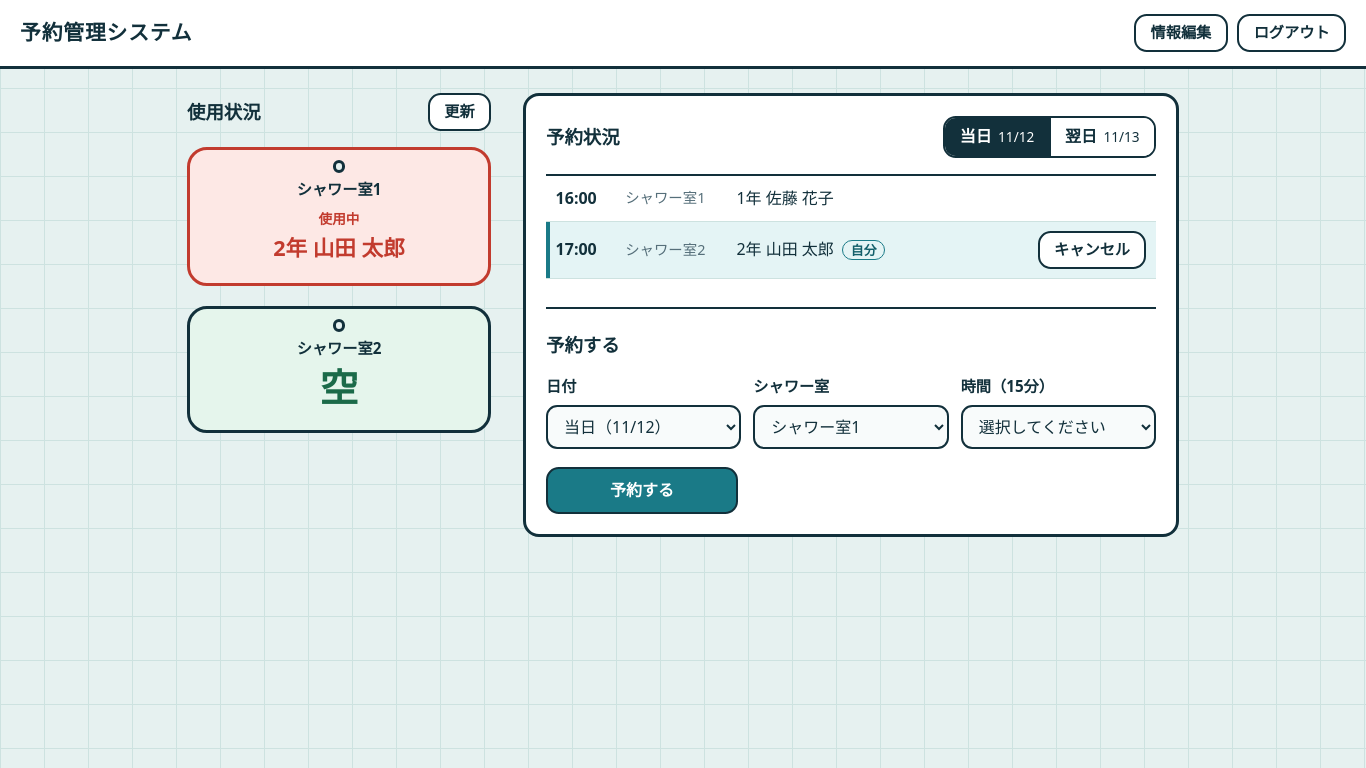
Test: トップページ：予約状況 › 「翌日」に切り替えると、翌日の予約が表示される
Expected: the heading "使用状況" is shown, [187,96,261,127]
Expected: the heading "シャワー室1" is shown, [297,179,381,199]
What coordinates should you click on to do the following:
click the button "翌日11/13"
I would click on:
 (1101, 137)
Its box is [1049,118,1154,156].
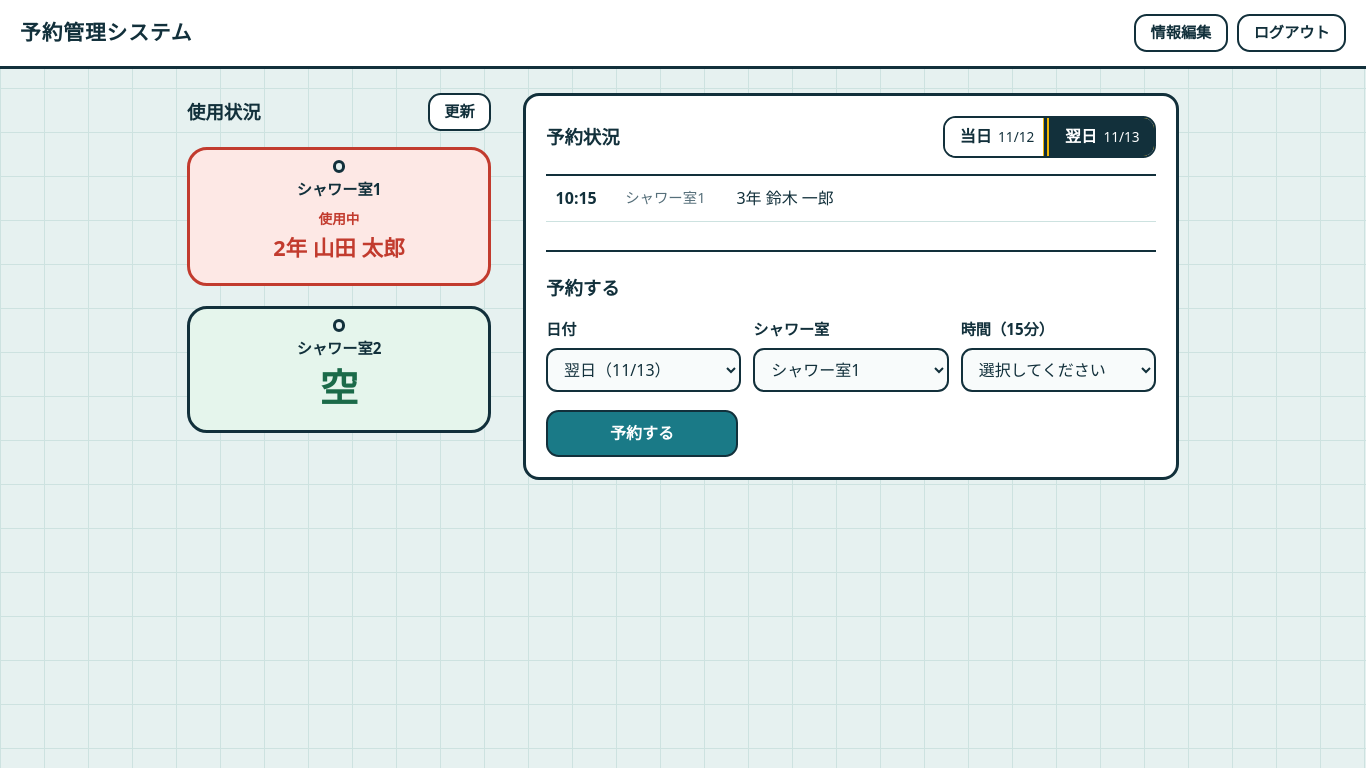
Result: the number of list items is 1 at [546,176,1156,222]
Result: the list item shows "10:15" at [556,187,597,209]
Result: the list item shows "3年 鈴木 一郎" at [736,187,834,209]
